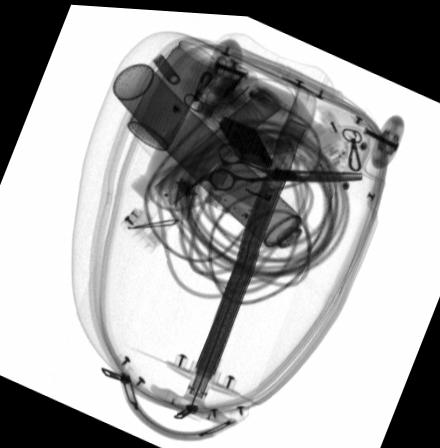Lighter: (217, 112, 274, 163)
Powerbank: (205, 106, 306, 232)
Scissors: (207, 136, 366, 189)
Sprayer: (110, 61, 329, 265)
